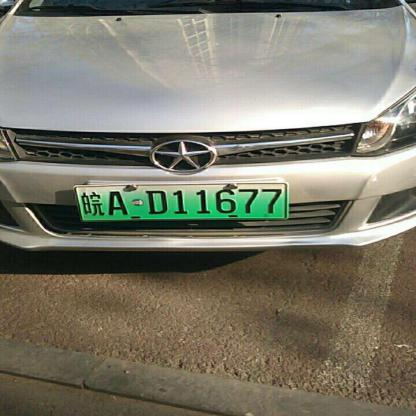lp: (73, 184, 289, 221)
